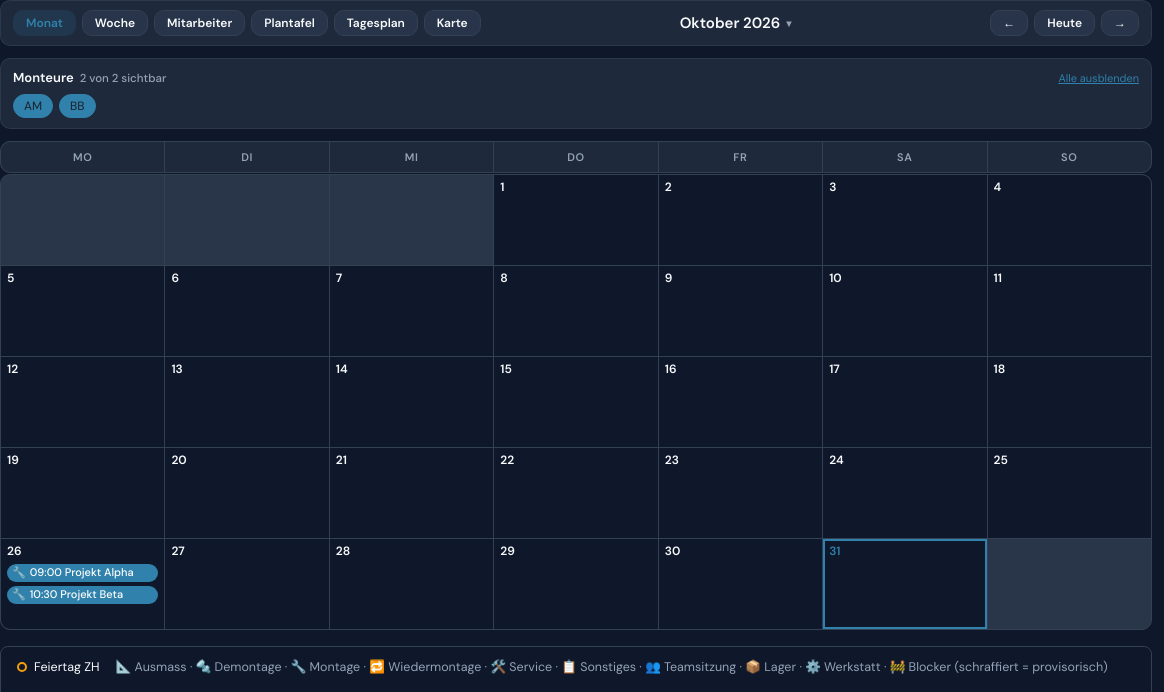
Test case: Plantafel › zeigt Fahrdistanzen zwischen aufeinanderfolgenden Einsätzen
Click the button "Plantafel" at (290, 23), box 251,10 -> 328,36
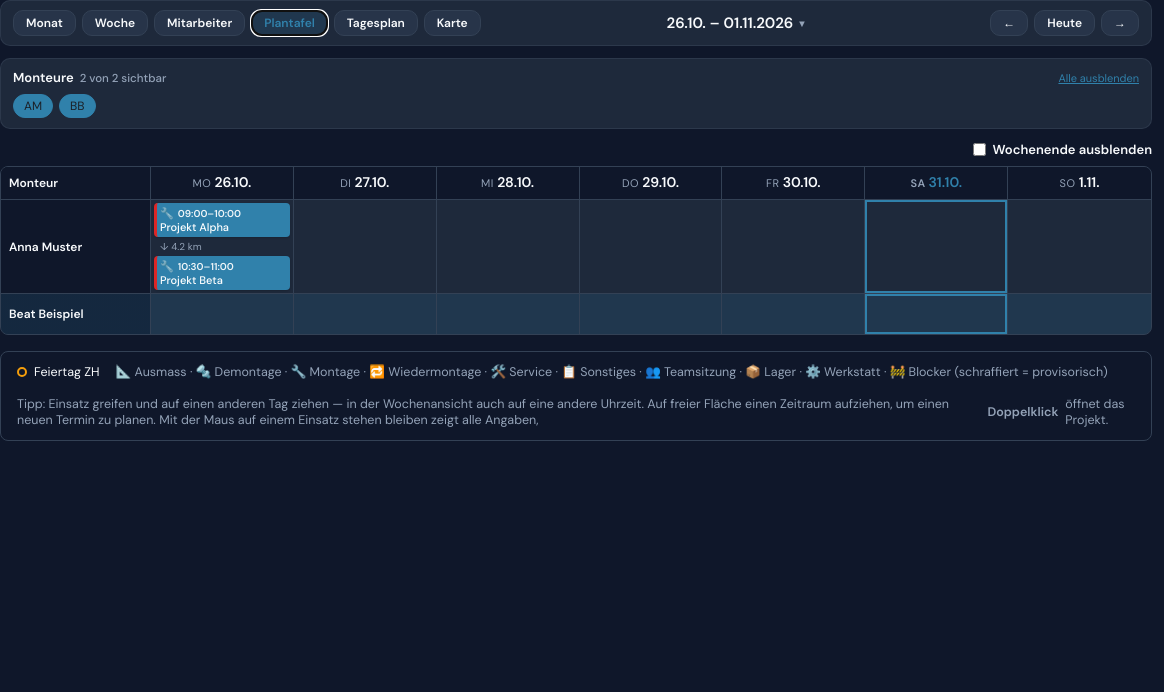
Expected: the text "↓ 4.2 km" is shown, 160,240 -> 202,253
